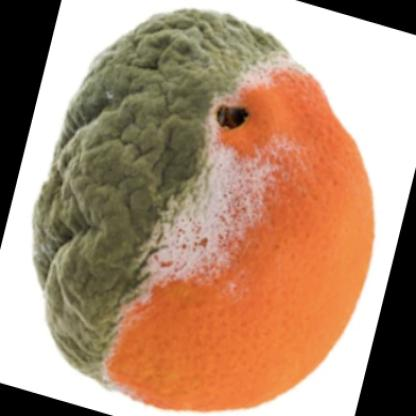rotten: (32, 8, 377, 413)
